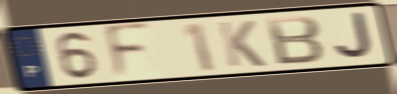1: (182, 20, 217, 73)
6: (54, 30, 101, 81)
B: (263, 14, 326, 67)
F: (102, 20, 154, 83)
J: (333, 10, 376, 61)
K: (215, 19, 268, 69)
